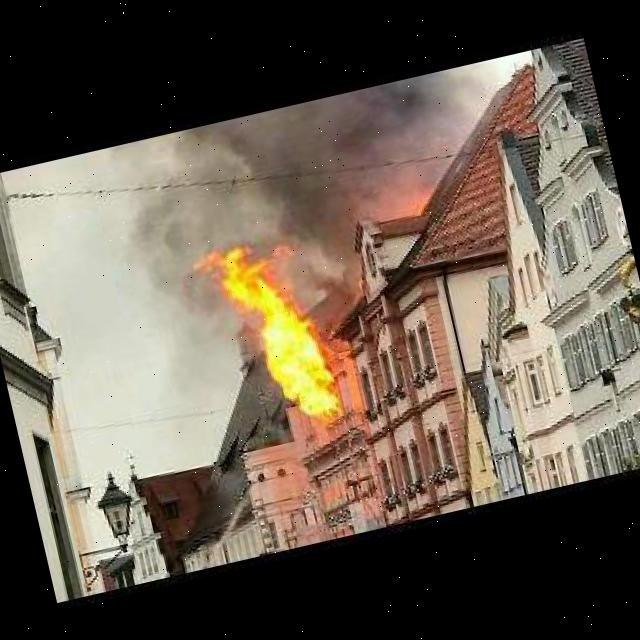fire: (106, 73, 448, 265), (194, 224, 352, 430)
